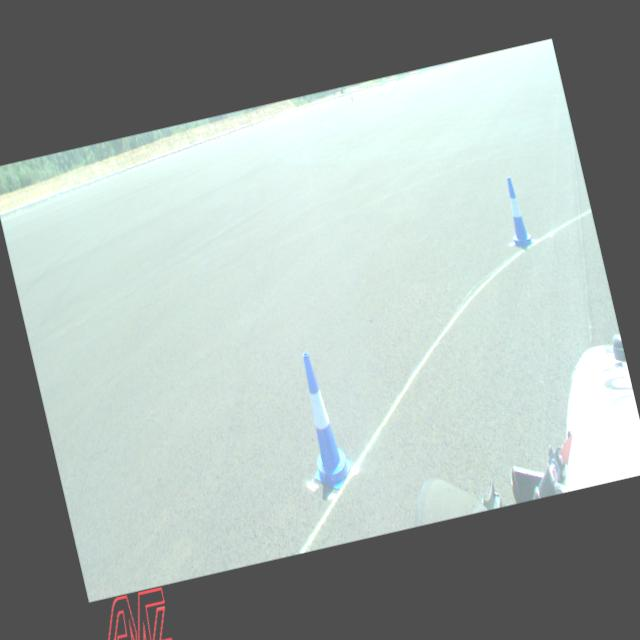blue_cone: (287, 346, 357, 494), (497, 174, 536, 250)
